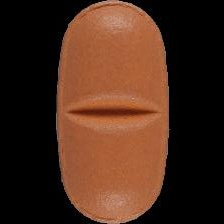51991-292: (0, 0, 224, 224)
